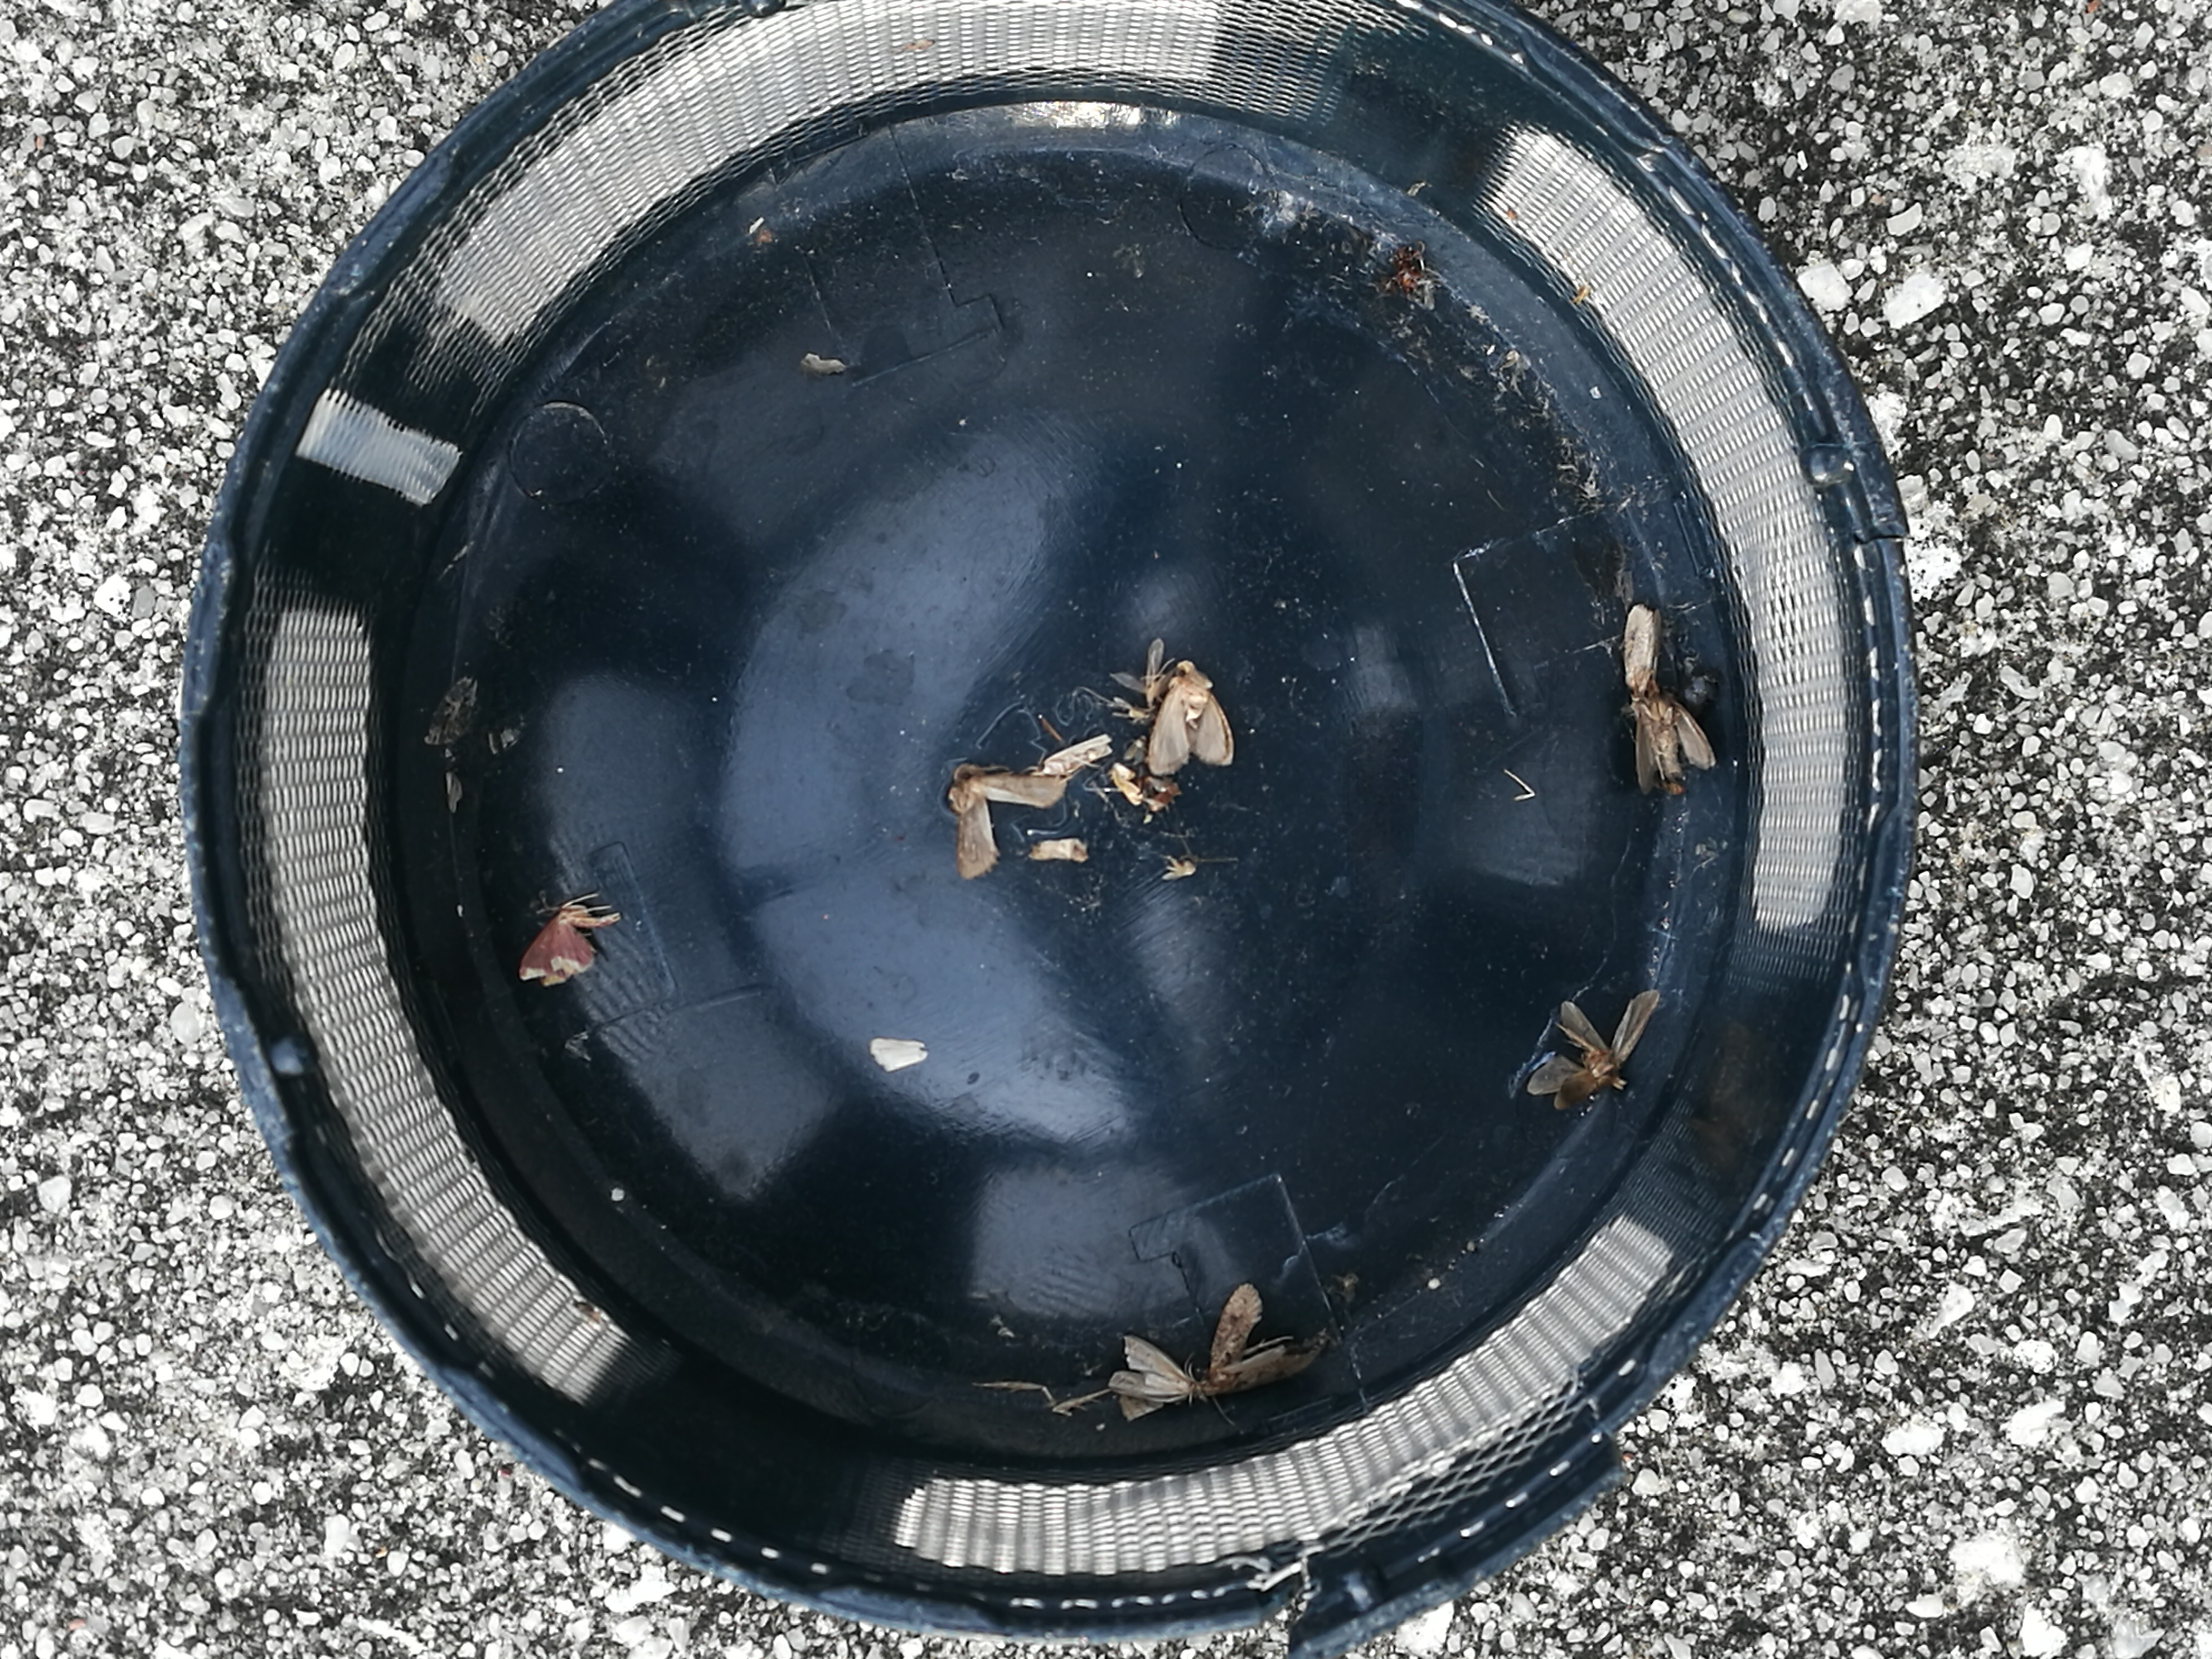mosquito: (1036, 735, 1109, 777), (1625, 605, 1658, 695)
moth: (1529, 990, 1658, 1108), (951, 763, 1068, 877), (1204, 1284, 1317, 1394), (1146, 662, 1233, 774), (1637, 692, 1716, 791), (1109, 1335, 1195, 1419), (521, 904, 596, 986)
